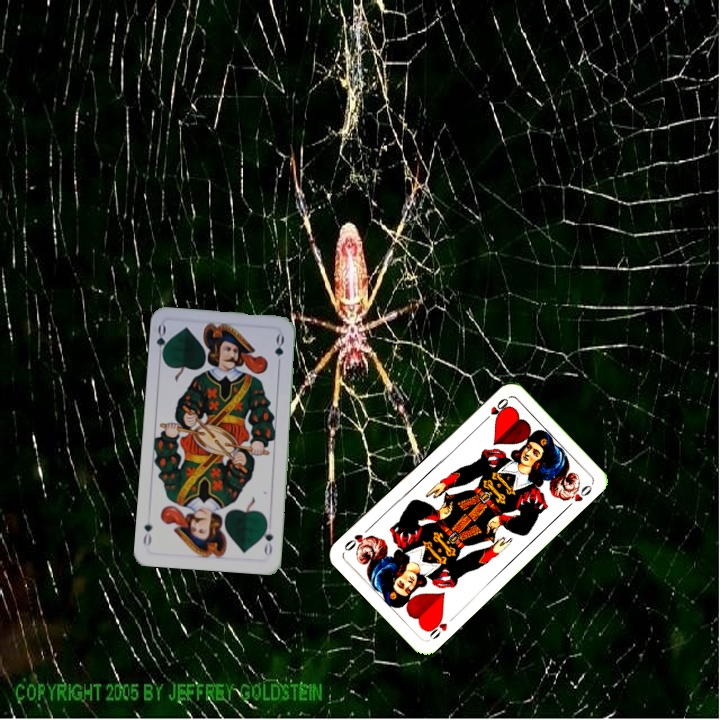GO: (152, 321, 172, 362), (259, 518, 276, 558)
HO: (423, 611, 458, 642), (478, 394, 511, 425)
